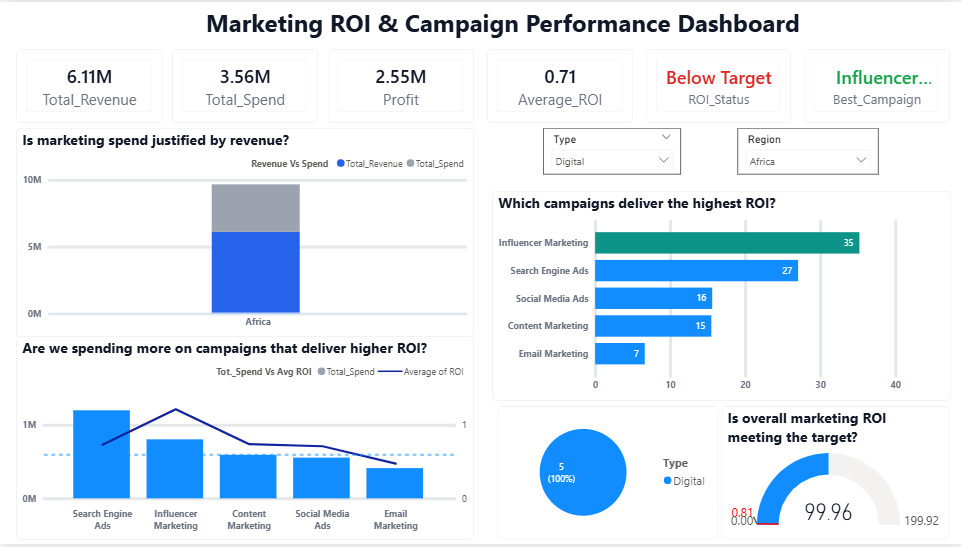

What the dashboard file says about the page in this screenshot:
{"tool":"powerbi","page":{"name":"Marketing Campaign","canvas":[1280,720],"ordinal":0},"visuals":[{"type":"columnChart","title":"Is marketing spend justified by revenue?","fields":{"Category":["marketing campaign performance.Region"],"Y":["marketing campaign performance.Total_Revenue","marketing campaign performance.Total_Spend"]},"box":[24,168,607.5,280],"z":0},{"type":"lineClusteredColumnComboChart","title":"Are we spending more on campaigns that deliver higher ROI?","fields":{"Category":["marketing campaign performance.Campaign_Name"],"Y":["marketing campaign performance.Total_Spend"],"Y2":["Avg(marketing campaign performance.ROI)"]},"box":[24,445,607.5,270],"z":1000},{"type":"clusteredBarChart","title":"Which campaigns deliver the highest ROI?","fields":{"Category":["marketing campaign performance.Campaign_Name"],"Y":["Sum(marketing campaign performance.ROI)"]},"box":[655.3,251.1,608.5,278.7],"z":2000},{"type":"pieChart","fields":{"Category":["marketing campaign details.Type"],"Y":["CountNonNull(marketing campaign details.Campaign_Name)"]},"box":[662.8,537.2,293,176.7],"z":3000},{"type":"gauge","title":"Is overall marketing ROI meeting the target?","fields":{"TargetValue":["Avg(marketing campaign performance.ROI)"],"Y":["Sum(marketing campaign performance.ROI)"]},"box":[960.5,537.2,302.3,176.7],"z":4000},{"type":"cardVisual","fields":{"Data":["marketing campaign performance.Total_Revenue"]},"box":[23.4,61.7,193.6,97.9],"z":5000},{"type":"cardVisual","fields":{"Data":["marketing campaign performance.Total_Spend"]},"box":[229.8,61.7,193.6,97.9],"z":6000},{"type":"cardVisual","fields":{"Data":["marketing campaign performance.Average_ROI"]},"box":[648.9,61.7,193.6,97.9],"z":7000},{"type":"cardVisual","fields":{"Data":["marketing campaign performance.Best_Campaign"]},"box":[1070.2,61.7,193.6,97.9],"z":8000},{"type":"slicer","fields":{"Values":["marketing campaign performance.Region"]},"box":[980.9,168.1,187.2,61.7],"z":9000},{"type":"slicer","fields":{"Values":["marketing campaign details.Type"]},"box":[723.4,168.1,183,61.7],"z":10000},{"type":"cardVisual","fields":{"Data":["marketing campaign performance.Profit"]},"box":[438.3,61.7,193.6,97.9],"z":11000},{"type":"cardVisual","fields":{"Data":["marketing campaign performance.ROI_Status"]},"box":[859.6,61.7,191.5,97.9],"z":12000},{"type":"textbox","box":[189.4,0,880.9,59.6],"z":13000}]}

Visuals, with their boxes in screenshot pixels (x1, y1, x2, y2), scaled from the page's 1280x720 canvas onto the 962x547 screenshot:
"Is marketing spend justified by revenue?" columnChart: [x1=18, y1=128, x2=475, y2=340]
"Are we spending more on campaigns that deliver higher ROI?" lineClusteredColumnComboChart: [x1=18, y1=338, x2=475, y2=543]
"Which campaigns deliver the highest ROI?" clusteredBarChart: [x1=492, y1=191, x2=950, y2=403]
pieChart - marketing campaign details.Type x CountNonNull(marketing campaign details.Campaign_Name): [x1=498, y1=408, x2=718, y2=542]
"Is overall marketing ROI meeting the target?" gauge: [x1=722, y1=408, x2=949, y2=542]
cardVisual - marketing campaign performance.Total_Revenue: [x1=18, y1=47, x2=163, y2=121]
cardVisual - marketing campaign performance.Total_Spend: [x1=173, y1=47, x2=318, y2=121]
cardVisual - marketing campaign performance.Average_ROI: [x1=488, y1=47, x2=633, y2=121]
cardVisual - marketing campaign performance.Best_Campaign: [x1=804, y1=47, x2=950, y2=121]
slicer - marketing campaign performance.Region: [x1=737, y1=128, x2=878, y2=175]
slicer - marketing campaign details.Type: [x1=544, y1=128, x2=681, y2=175]
cardVisual - marketing campaign performance.Profit: [x1=329, y1=47, x2=475, y2=121]
cardVisual - marketing campaign performance.ROI_Status: [x1=646, y1=47, x2=790, y2=121]
textbox: [x1=142, y1=0, x2=804, y2=45]
